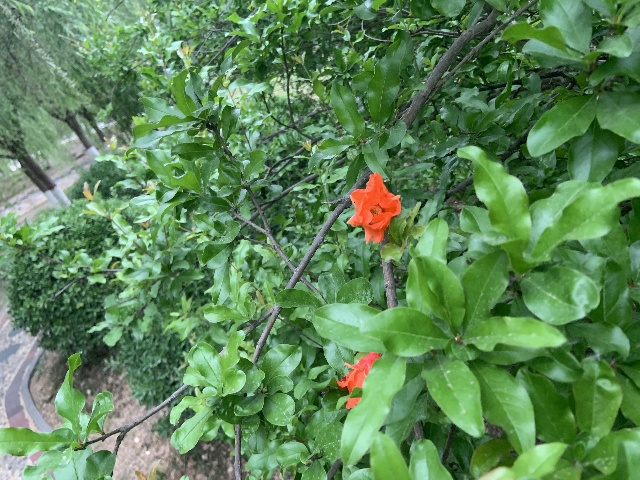flower: (346, 171, 400, 244), (336, 351, 380, 408)
